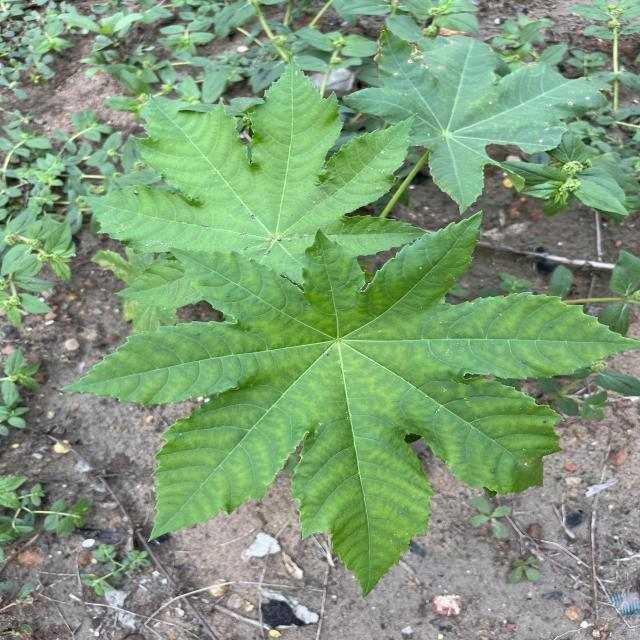Ricinus communis linn: (56, 206, 640, 602), (73, 49, 436, 312)
